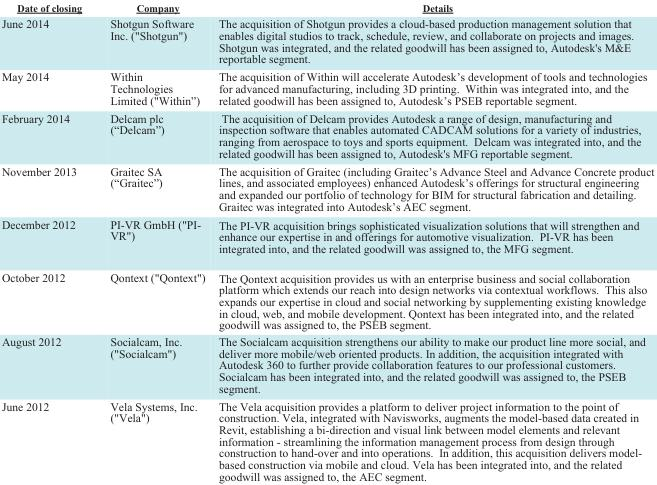table: (0, 1, 653, 482)
table column: (211, 1, 653, 482), (95, 1, 211, 482), (0, 1, 95, 482)
table column header: (0, 1, 653, 14)
table row: (0, 396, 653, 482), (0, 262, 653, 332), (0, 332, 653, 396), (0, 14, 653, 67), (0, 108, 653, 161), (0, 161, 653, 214), (0, 214, 653, 262), (0, 67, 653, 108), (0, 1, 653, 14)
